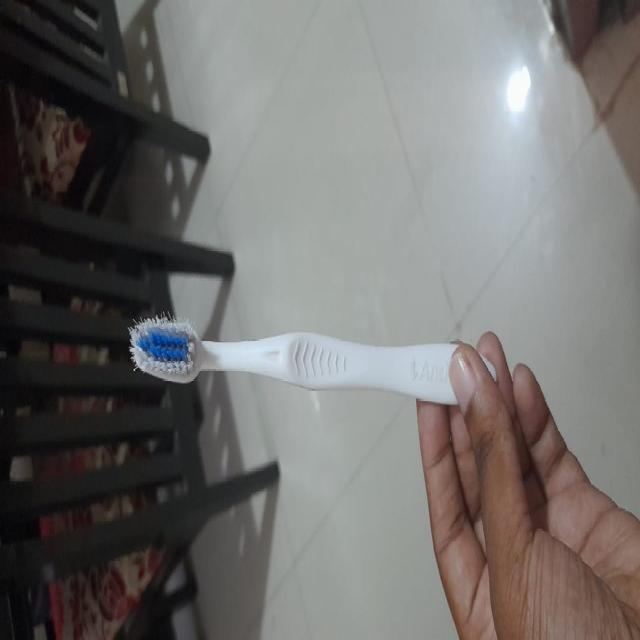Tooth_Brush - Non Recyclable: (110, 276, 516, 454)
